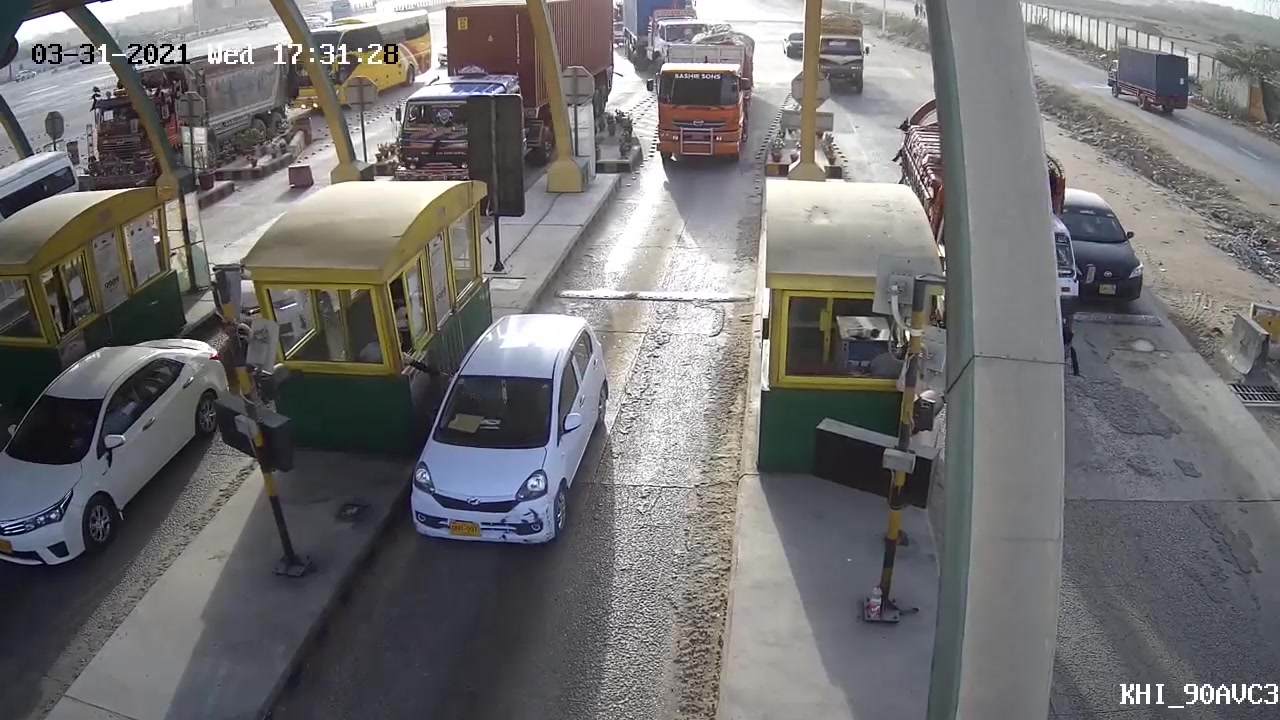F5: (411, 309, 598, 564)
